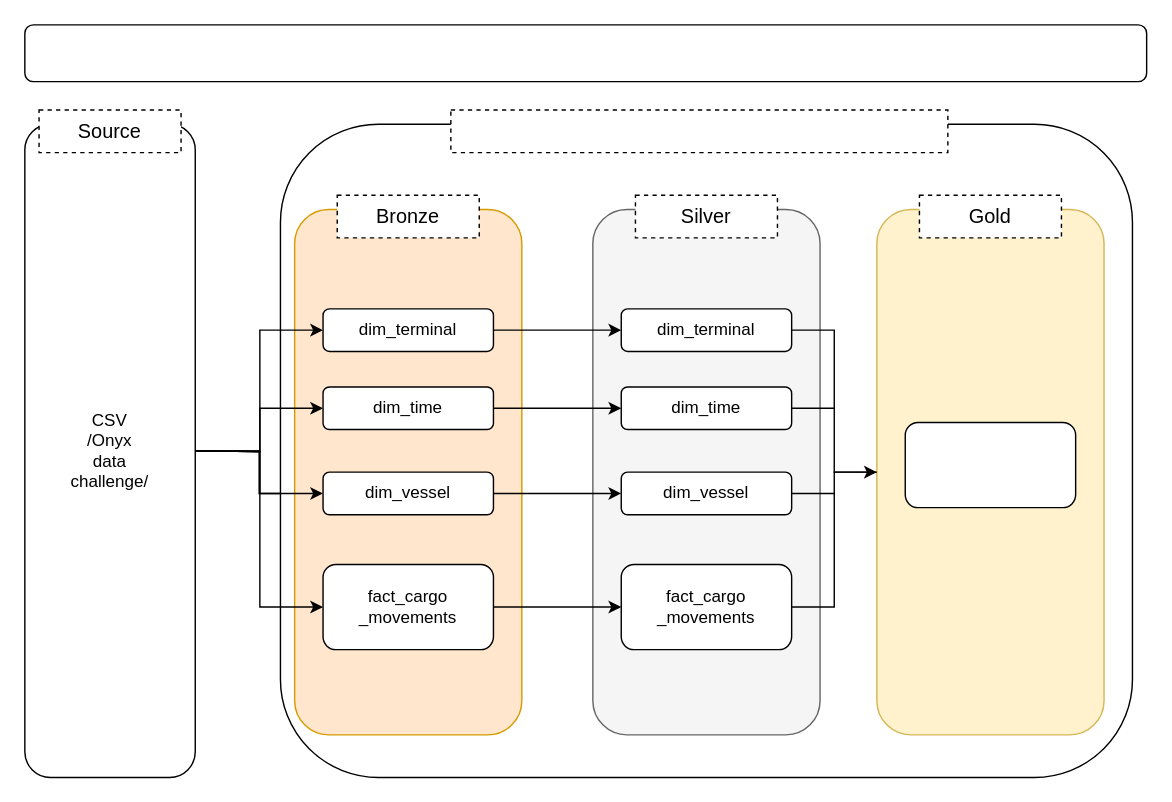
Some shapes in this 1172 by 802 pixel diagram are drawn without their labels. Here are the shapes that lost their labels. From the top down, the box of each, then its label:
(23, 23, 1147, 82): DATA FLOW
(449, 109, 948, 153): Data warehouse
(904, 421, 1076, 508): Cargo_movement _enriched
